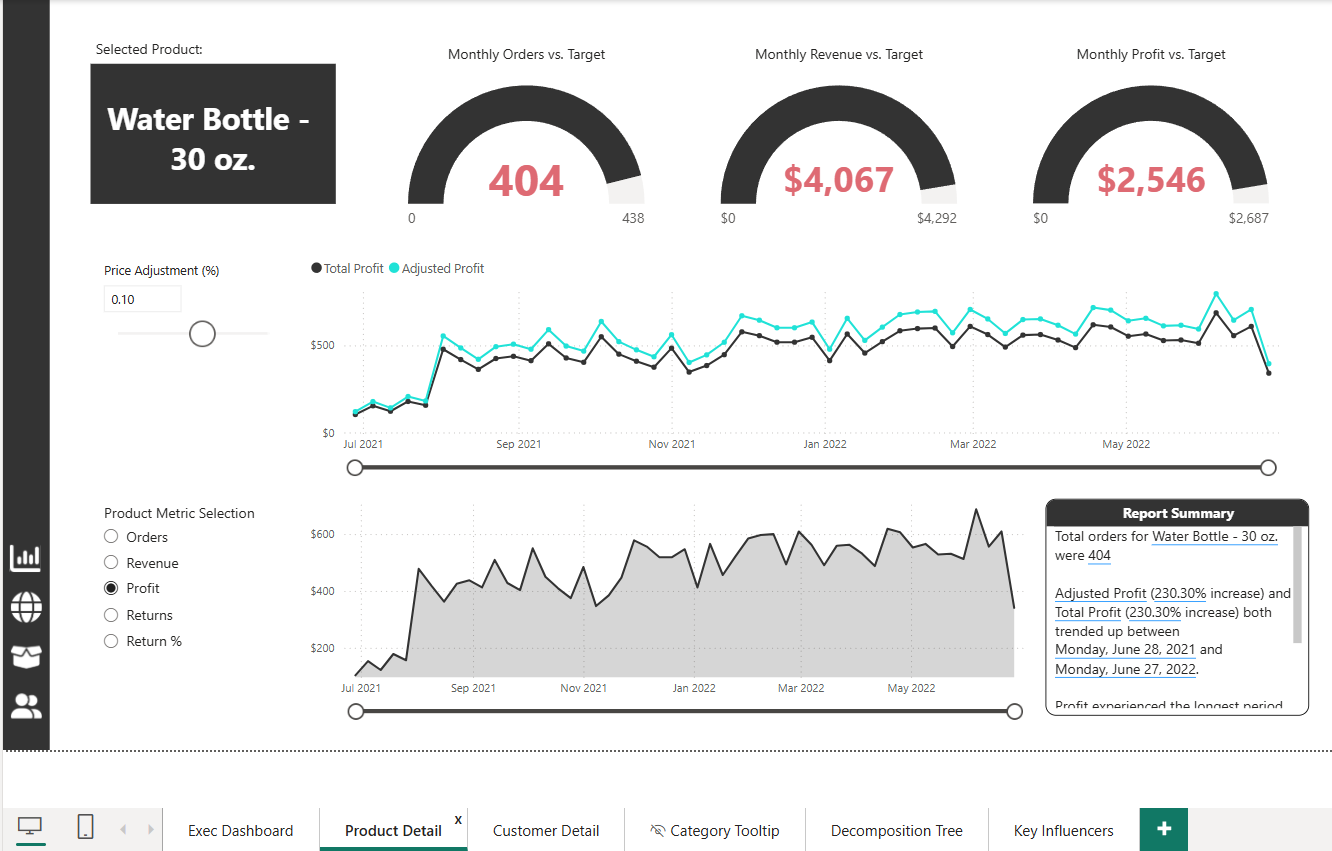

The dashboard page shown, as its layout file describes it:
{"tool":"powerbi","page":{"name":"Product Detail","canvas":[1280,720],"ordinal":1},"visuals":[{"type":"shape","box":[0,0,45,720],"z":0},{"type":"actionButton","box":[2.5,516.7,45.6,37.8],"z":0,"group":"g1"},{"type":"gauge","title":"Monthly Orders vs. Target","fields":{"MaxValue":["Measure Table.Order Target"],"Y":["Measure Table.Total Orders"]},"box":[383.7,41.5,236.9,203.7],"z":1000},{"type":"actionButton","box":[3.3,563.4,45.6,37.8],"z":1000,"group":"g1"},{"type":"gauge","title":"Monthly Revenue vs. Target","fields":{"MaxValue":["Measure Table.Revenue Target"],"Y":["Measure Table.Total Revenue"]},"box":[683.5,41.5,236.9,203.7],"z":2000},{"type":"actionButton","box":[3.3,611.1,45.6,37.8],"z":2000,"group":"g1"},{"type":"gauge","title":"Monthly Profit vs. Target","fields":{"MaxValue":["Measure Table.Profit Target"],"Y":["Measure Table.Total Profit"]},"box":[983.4,41.8,236.2,203.5],"z":3000},{"type":"actionButton","box":[3.3,657.8,45.6,37.8],"z":3000,"group":"g1"},{"type":"lineChart","title":"Profit Trending","fields":{"Category":["Calendar Lookup.Date Hierarchy.Year","Calendar Lookup.Date Hierarchy.Start of Month","Calendar Lookup.Date Hierarchy.Start of Week","Calendar Lookup.Date Hierarchy.Date"],"Y":["Measure Table.Total Profit","Measure Table.Adjusted Profit"]},"box":[290.5,237.4,952.8,221.5],"z":4000},{"type":"areaChart","title":"Return Trending","fields":{"Category":["Calendar Lookup.Date Hierarchy.Year","Calendar Lookup.Date Hierarchy.Start of Month","Calendar Lookup.Date Hierarchy.Start of Week","Calendar Lookup.Date Hierarchy.Date"],"Y":["Measure Table.Total Profit"]},"box":[290.5,471.3,708.7,221.5],"z":5000},{"type":"card","fields":{"Values":["Min(Product Lookup.ProductName)"]},"box":[83.6,61,235.1,134.5],"z":6000},{"type":"textbox","box":[83.6,32.8,136.8,36.2],"z":7000},{"type":"group","id":"g1","title":"Navigation Buttons","box":[2.5,516.7,46.4,178.9],"z":8000},{"type":"slicer","fields":{"Values":["Price Adjustment (%).Price Adjustment (%)"]},"box":[83.6,245.3,193.3,123.2],"z":9000},{"type":"slicer","fields":{"Values":["Product Metric Selection.Product Metric Selection"]},"box":[83.6,477,193.3,180.8],"z":10000},{"type":"textbox","title":"Report Summary","box":[999.2,478.1,253.2,208],"z":11000}]}

Visuals, with their boxes on the page's 1280x720 design canvas (x1, y1, x2, y2). These are canvas units, not pixel positions in the 1332x851 screenshot, which may show the page scaled, cropped or inside an application window:
shape: 0:0:45:720
actionButton: 2:517:48:554
"Monthly Orders vs. Target" gauge: 384:42:621:245
actionButton: 3:563:49:601
"Monthly Revenue vs. Target" gauge: 684:42:920:245
actionButton: 3:611:49:649
"Monthly Profit vs. Target" gauge: 983:42:1220:245
actionButton: 3:658:49:696
"Profit Trending" lineChart: 290:237:1243:459
"Return Trending" areaChart: 290:471:999:693
card - Min(Product Lookup.ProductName): 84:61:319:196
textbox: 84:33:220:69
"Navigation Buttons" group: 2:517:49:696
slicer - Price Adjustment (%).Price Adjustment (%): 84:245:277:368
slicer - Product Metric Selection.Product Metric Selection: 84:477:277:658
"Report Summary" textbox: 999:478:1252:686
